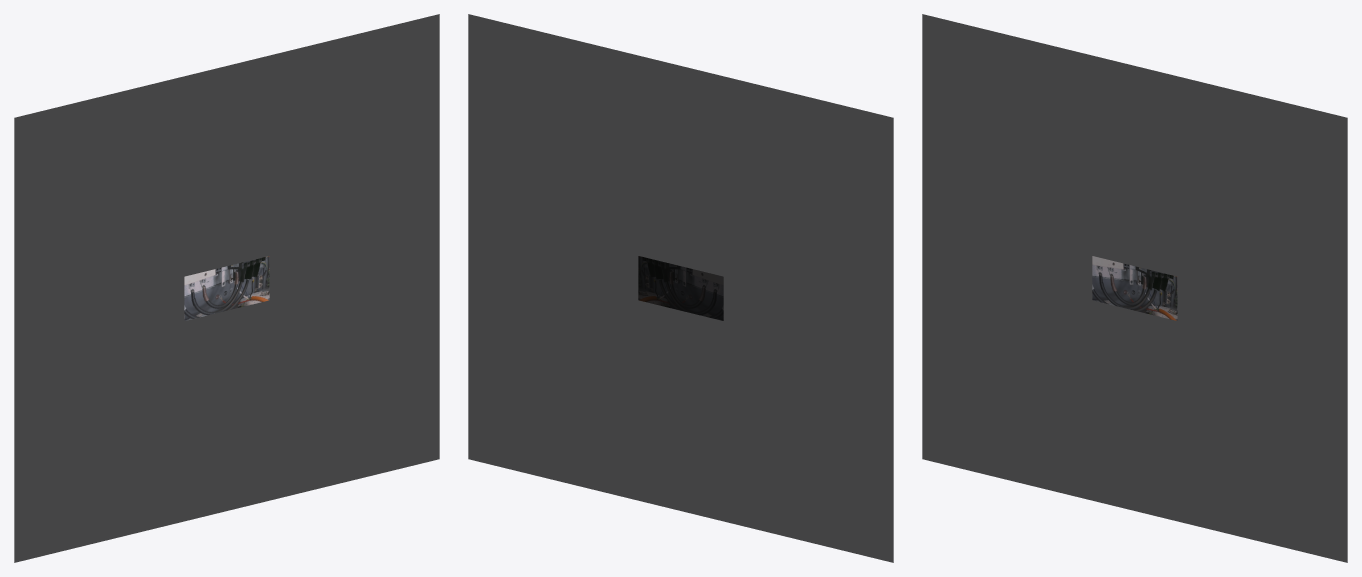
Rendered from wiring-02-final.glb.
The picture shows the model from 3 angles, left to right: view 1: azimuth 30°, elevation 25°; view 2: azimuth 150°, elevation 25°; view 3: azimuth 330°, elevation 25°; orthographic projection.
Parts seen in each view (by area): view 1: background, wiring-02; view 2: background, wiring-02; view 3: background, wiring-02.
Boxes of the visible parts, x1,y1,x2,y2 form: background: (14,14,439,562); wiring-02: (184,256,269,320); background: (468,14,893,562); wiring-02: (638,256,723,320); background: (922,14,1347,562); wiring-02: (1092,256,1177,320).
Size of the model in its own units: 10 by 10 by 0.001.
2 materials, 1 textured.
